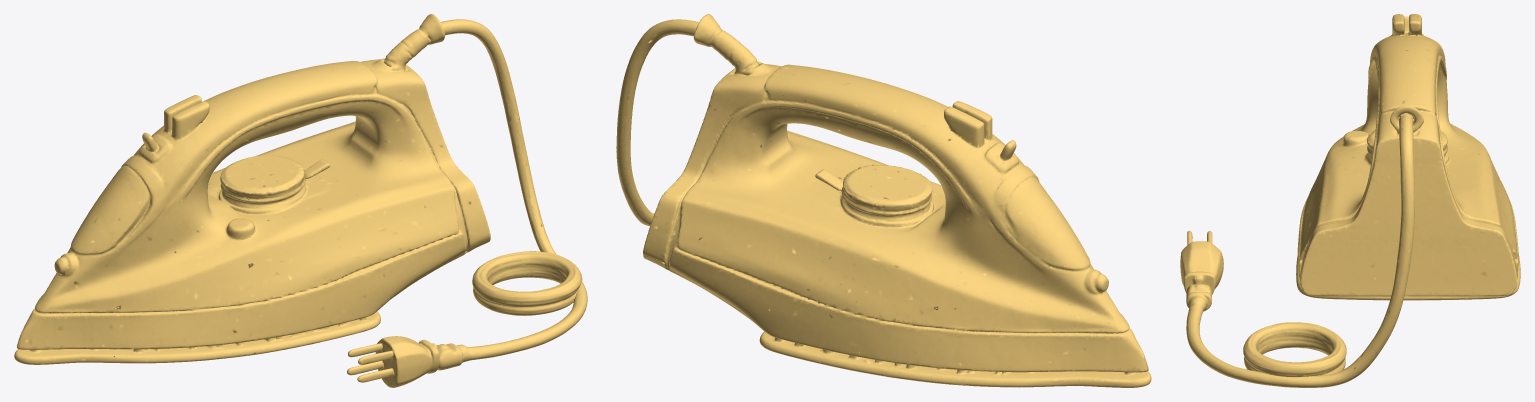
Rendered from plancha.glb.
3 renders of one model, left to right at view 1: azimuth 30°, elevation 25°; view 2: azimuth 150°, elevation 25°; view 3: azimuth 270°, elevation 25°, orthographic. The views are drawn at different scales.
Visible parts, largest first — view 1: plancha; view 2: plancha; view 3: plancha.
Part boxes in pixels (bbox=[...]): plancha: bbox=[14, 14, 587, 387]; plancha: bbox=[616, 14, 1151, 387]; plancha: bbox=[1180, 14, 1520, 387].
Bounding box in the file's own units: 1 × 0.4863 × 0.5931.
